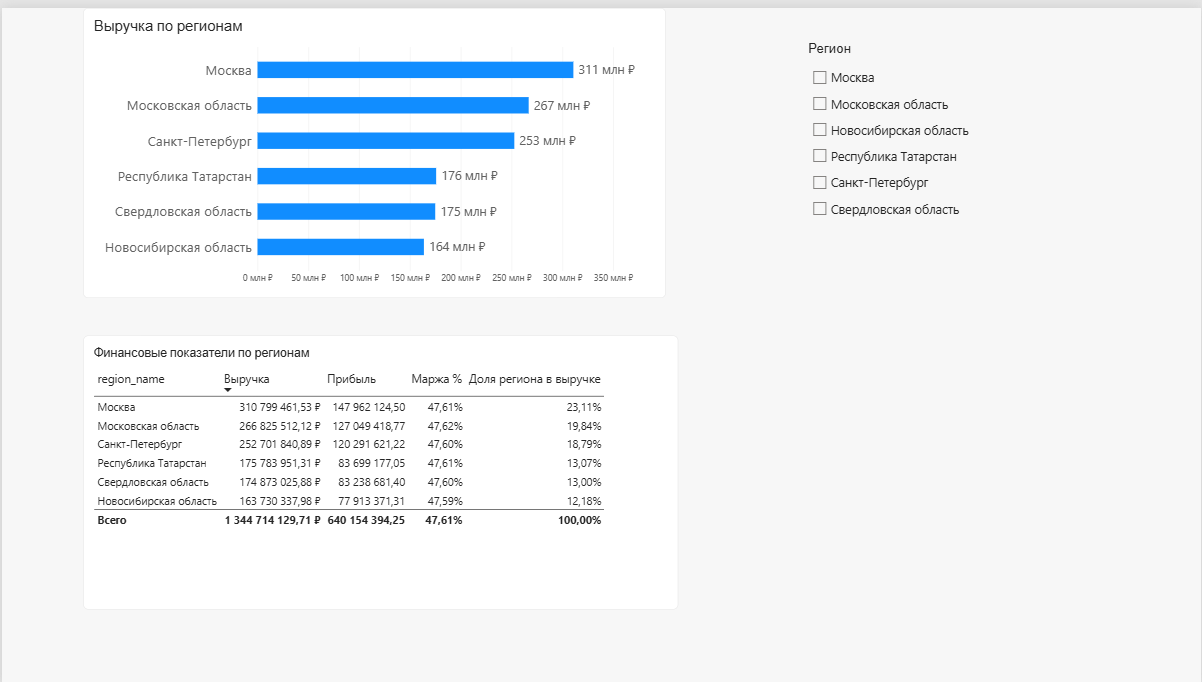

What the dashboard file says about the page in this screenshot:
{"tool":"powerbi","page":{"name":"Региональный анализ","canvas":[1920,1080],"ordinal":1},"visuals":[{"type":"clusteredBarChart","title":"Выручка по регионам","fields":{"Category":["dim_region.region_name"],"Y":["fact_sales.Выручка"]},"box":[130,0,932,464],"z":0},{"type":"tableEx","title":"Финансовые показатели по регионам","fields":{"Values":["dim_region.region_name","fact_sales.Выручка","fact_sales.Прибыль","fact_sales.Маржа %","fact_sales.Доля региона в выручке"]},"box":[130,524,952,438],"z":1000},{"type":"slicer","title":"Регион","fields":{"Values":["dim_region.region_name"]},"box":[1290,52,298,342],"z":2000}]}

Visuals, with their boxes in screenshot pixels (x1, y1, x2, y2), scaled from the page's 1920x1080 canvas onto the 1202x682 screenshot:
"Выручка по регионам" clusteredBarChart: box(81, 0, 665, 293)
"Финансовые показатели по регионам" tableEx: box(81, 331, 677, 607)
"Регион" slicer: box(808, 33, 994, 249)
